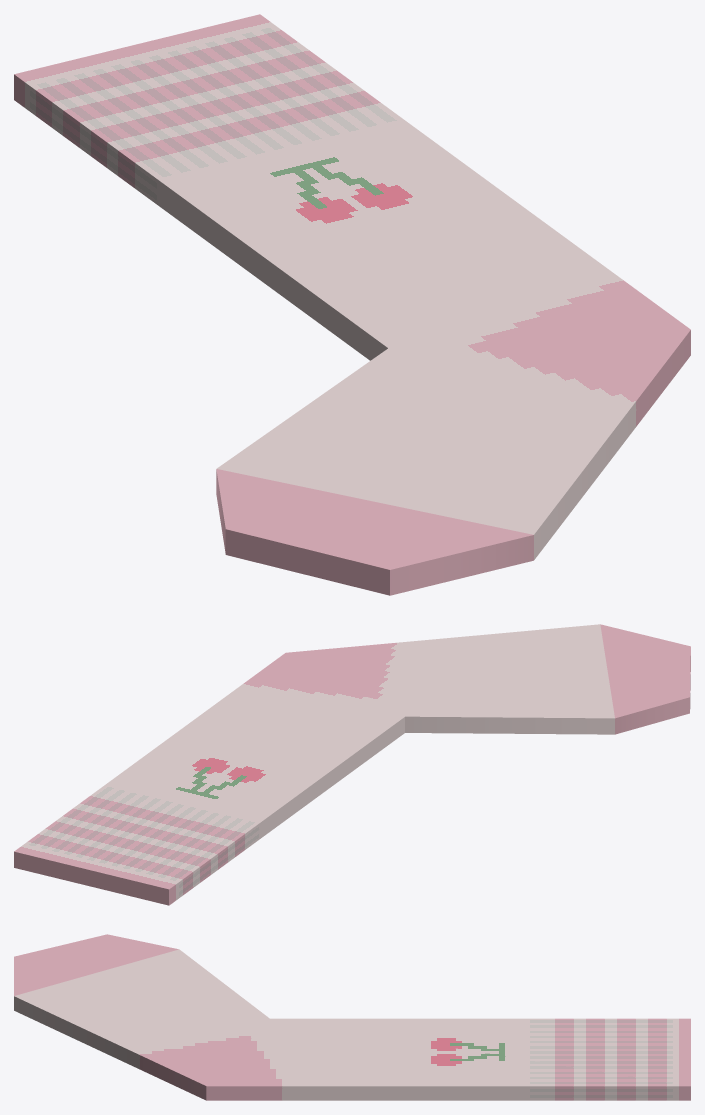
File: 000a_Red_Sock.glb
3 renders of one model, top to bottom at view 1: azimuth 30°, elevation 25°; view 2: azimuth 150°, elevation 25°; view 3: azimuth 270°, elevation 25°, orthographic. The views are drawn at different scales.
Parts seen in each view (by area): view 1: part_0; view 2: part_0; view 3: part_0.
Part boxes in pixels (<box>): part_0: <box>14,14,690,595</box>; part_0: <box>14,624,690,905</box>; part_0: <box>14,934,690,1100</box>.
Size of the model in its own units: 0.1124 by 0.005 by 0.2118.
1 material, 1 textured.
